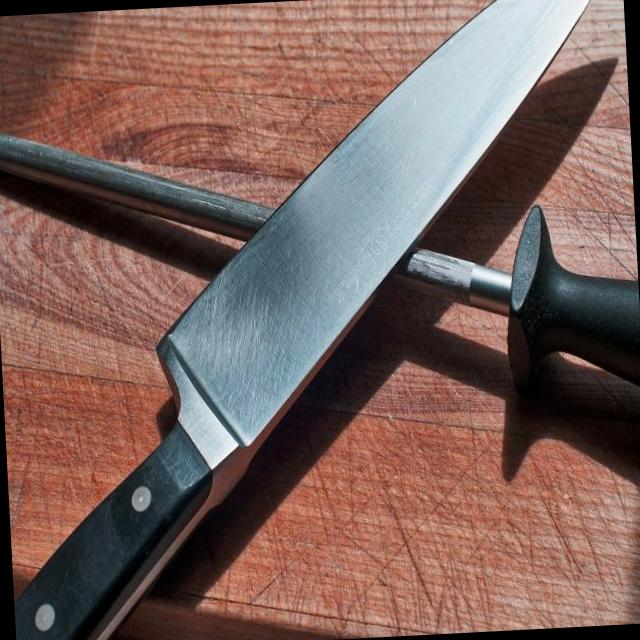Knife: (14, 0, 590, 640)
